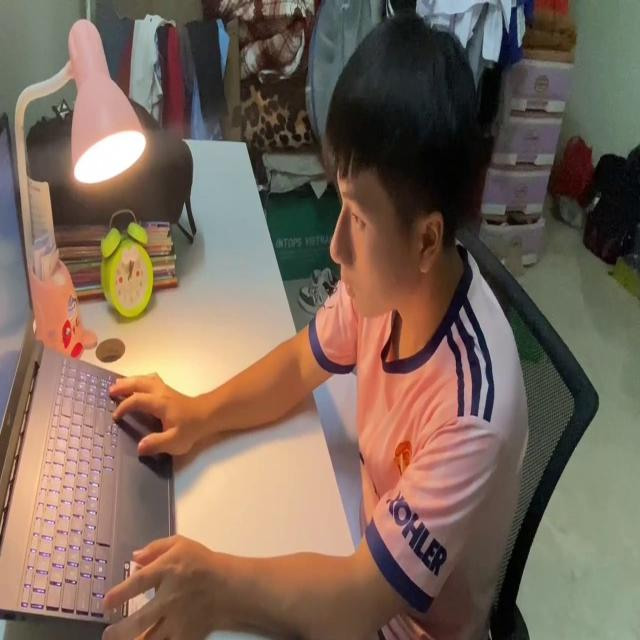book: (310, 367, 360, 551)
laptop: (1, 109, 179, 632)
student: (107, 13, 529, 640)
